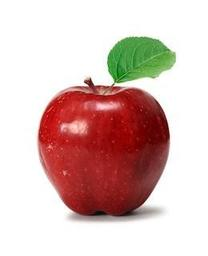apple: (35, 79, 170, 216)
